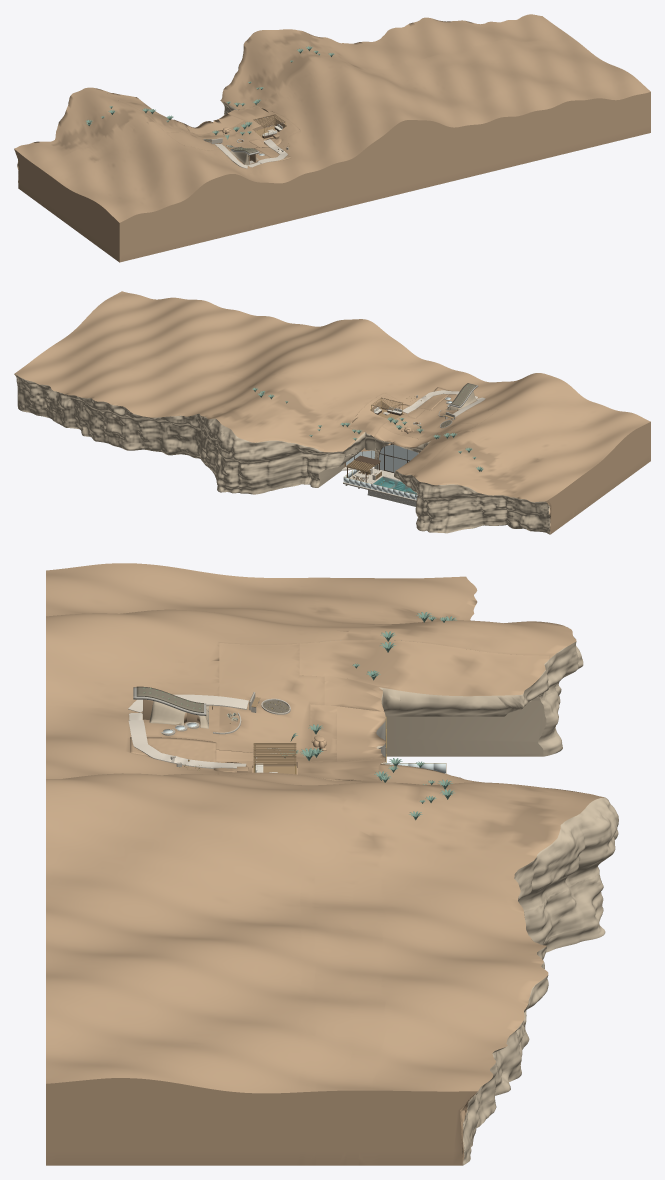
The model's file is home-shell.glb.
The picture shows the model from 3 angles, top to bottom: view 1: azimuth 30°, elevation 25°; view 2: azimuth 150°, elevation 25°; view 3: azimuth 270°, elevation 25°; orthographic projection. The views are drawn at different scales.
Parts seen in each view (by area): view 1: core__golden coastal sandstone, core_retreat_liftaway_roof, core_estate_library_liftaway_roof, core_liftaway_cave_ceiling, core_arrival_paths__travertine paving stone, core_retreat_clifftop__pale oak; view 2: core__golden coastal sandstone, core_retreat_liftaway_roof, core_estate_library_liftaway_roof, core_liftaway_cave_ceiling, core_estate_guard__facade low-iron glass, core_arrival_paths__travertine paving stone, core_facade_lunette_glass, core_liftaway_cave_ceiling_rear, core_retreat_clifftop__pale oak; view 3: core__golden coastal sandstone, core_estate_library_liftaway_roof, core_retreat_liftaway_roof, core_liftaway_cave_ceiling, core_bathwing_liftaway_roof, core_arrival_court__golden coastal sandstone, core_arrival_paths__travertine paving stone, core_liftaway_cave_ceiling_rear, core_retreat_clifftop__pale oak.
Boxes of the visible parts, x1,y1,x2,y2 form: core__golden coastal sandstone: (14,14,650,262); core_retreat_liftaway_roof: (166,106,299,149); core_estate_library_liftaway_roof: (105,91,185,132); core_liftaway_cave_ceiling: (183,113,243,134); core_arrival_paths__travertine paving stone: (219,139,287,168); core_retreat_clifftop__pale oak: (253,114,285,139); core__golden coastal sandstone: (14,291,650,534); core_retreat_liftaway_roof: (348,393,497,436); core_estate_library_liftaway_roof: (394,424,477,485); core_liftaway_cave_ceiling: (374,426,433,453); core_estate_guard__facade low-iron glass: (343,469,417,499); core_arrival_paths__travertine paving stone: (402,390,485,413); core_facade_lunette_glass: (380,444,418,460); core_liftaway_cave_ceiling_rear: (382,422,440,439); core_retreat_clifftop__pale oak: (371,397,403,419); core__golden coastal sandstone: (46,563,618,1165); core_estate_library_liftaway_roof: (299,640,549,716); core_retreat_liftaway_roof: (219,643,385,780); core_liftaway_cave_ceiling: (337,706,385,761); core_bathwing_liftaway_roof: (324,675,400,713); core_arrival_court__golden coastal sandstone: (130,699,248,772); core_arrival_paths__travertine paving stone: (128,694,246,768); core_liftaway_cave_ceiling_rear: (310,704,336,762); core_retreat_clifftop__pale oak: (253,743,296,774).
Size of the model in its own units: 112 by 16.19 by 52.54.
